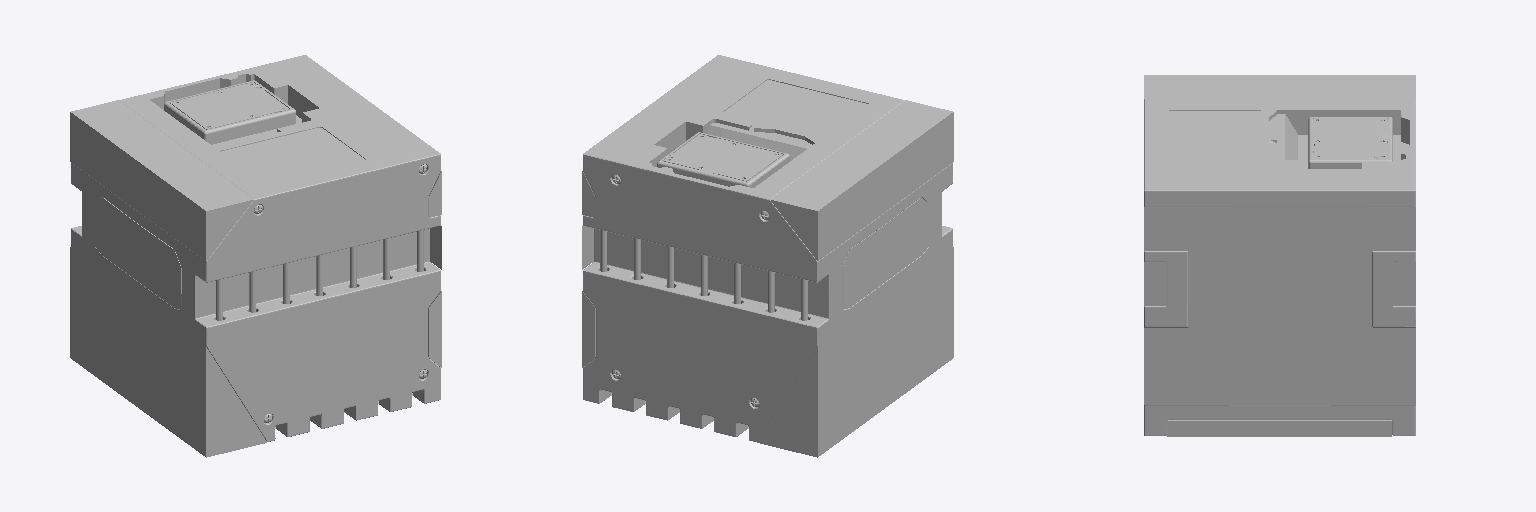
Rendered from crazy cube redo.obj.
The picture shows the model from 3 angles: view 1: azimuth 30°, elevation 25°; view 2: azimuth 150°, elevation 25°; view 3: azimuth 270°, elevation 25°; orthographic projection.
Visible parts, largest first — view 1: Cube.001_Cube.003; view 2: Cube.001_Cube.003; view 3: Cube.001_Cube.003.
Part boxes in pixels (x1,y1,x2,y2): Cube.001_Cube.003: (70,55,441,457); Cube.001_Cube.003: (582,55,953,457); Cube.001_Cube.003: (1144,75,1415,436).
Bounding box in the file's own units: 2 × 2 × 2.